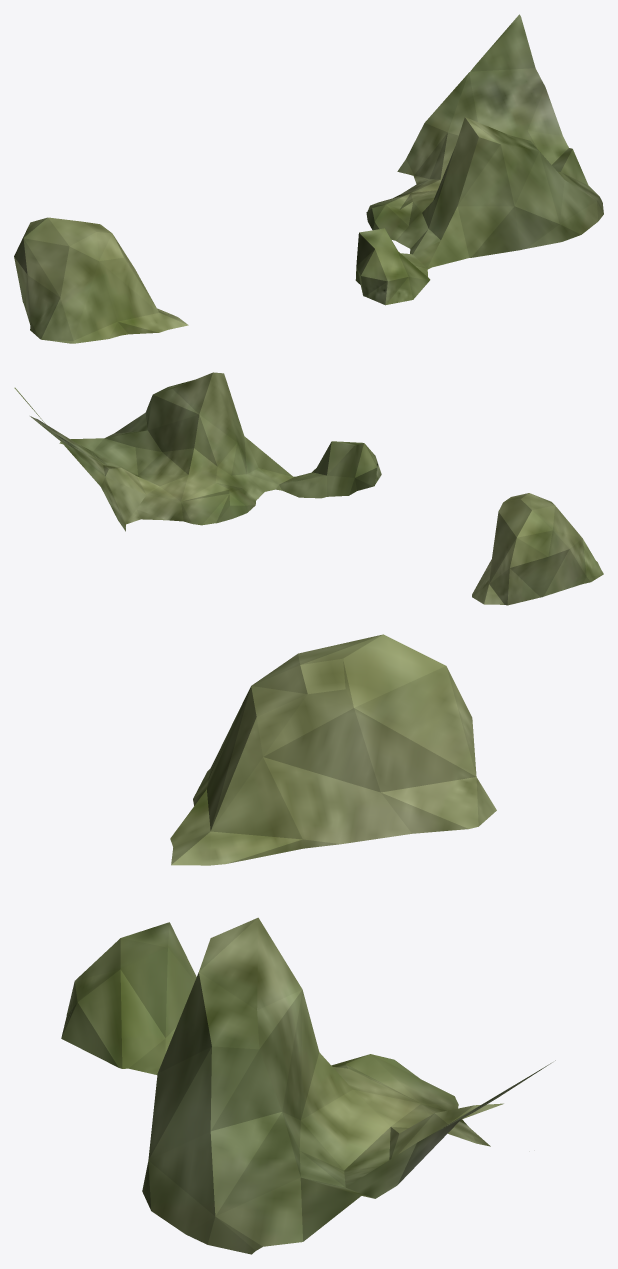
3 renders of one model, top to bottom at view 1: azimuth 30°, elevation 25°; view 2: azimuth 150°, elevation 25°; view 3: azimuth 270°, elevation 25°, orthographic. The views are drawn at different scales.
Bounding box in the file's own units: 2.04 × 0.4433 × 0.8517.
1 material, 1 textured.
